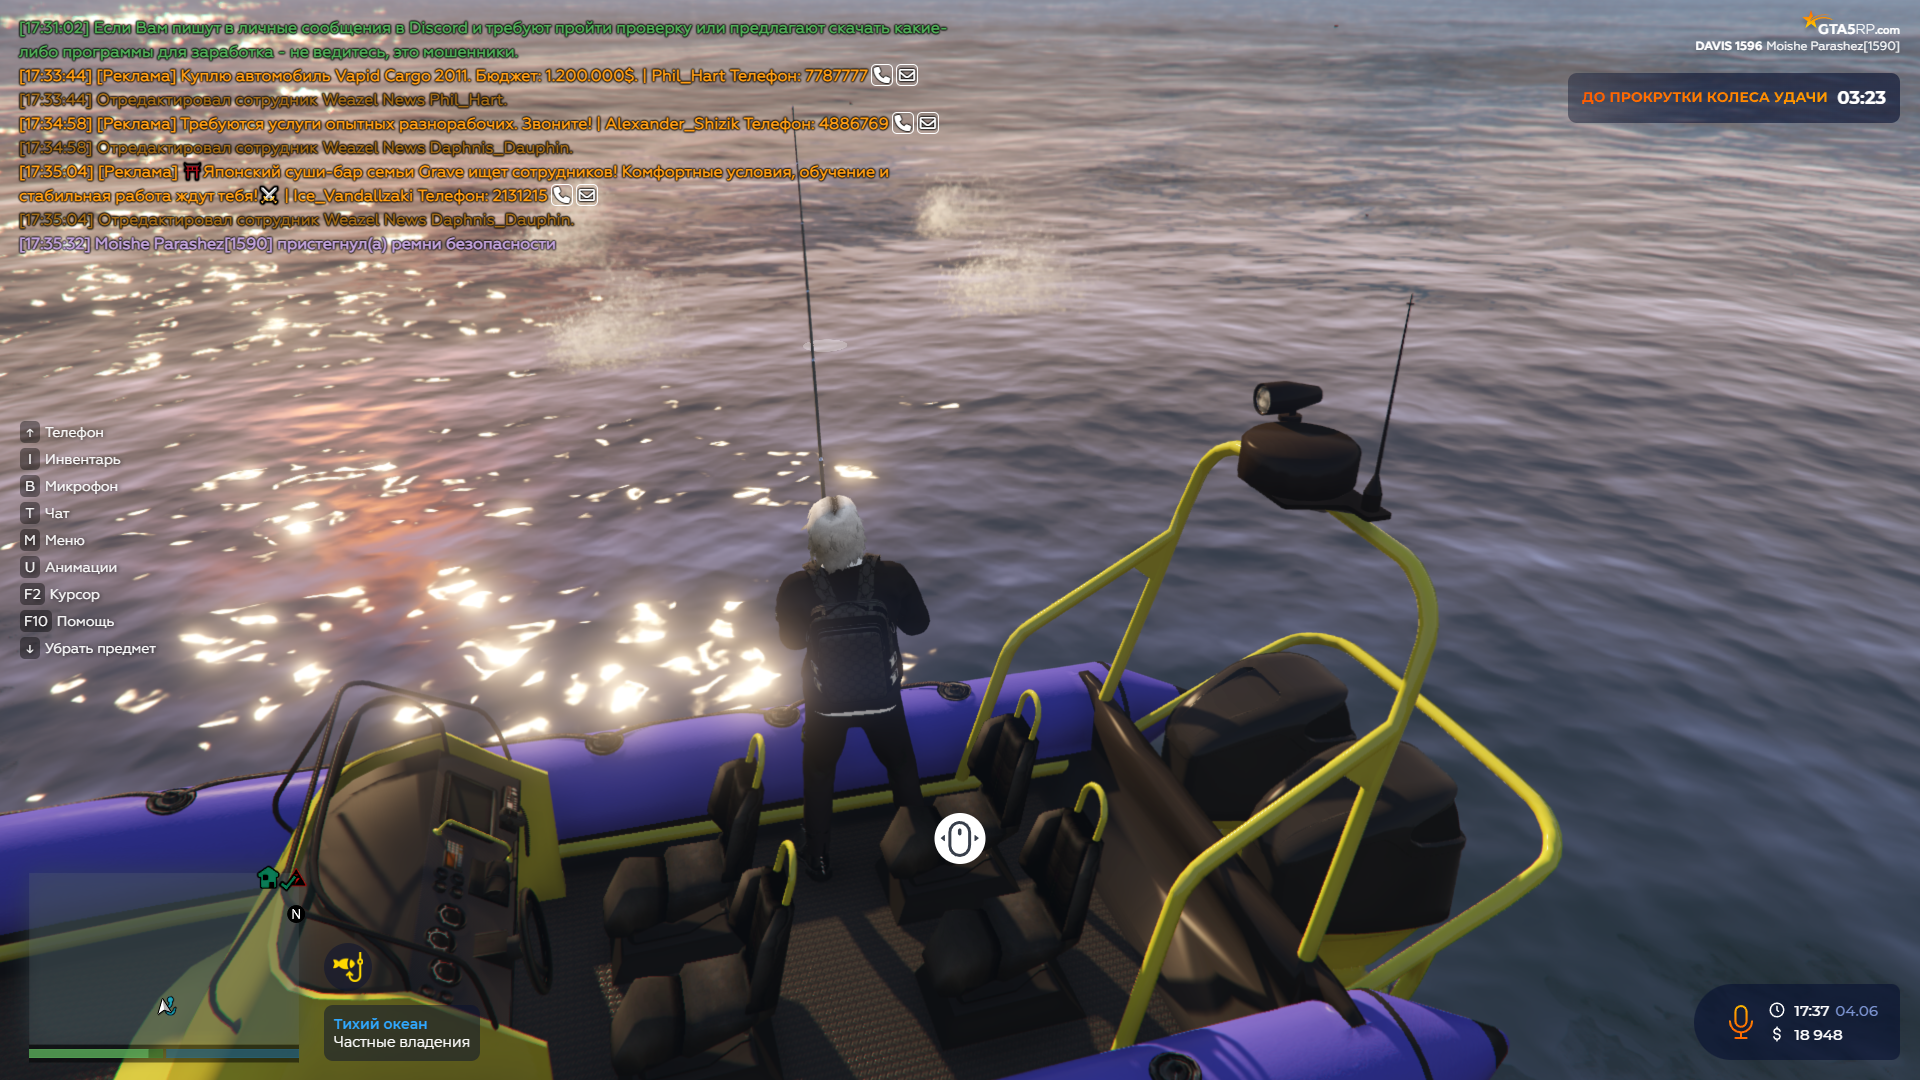circle: (802, 339, 849, 355)
